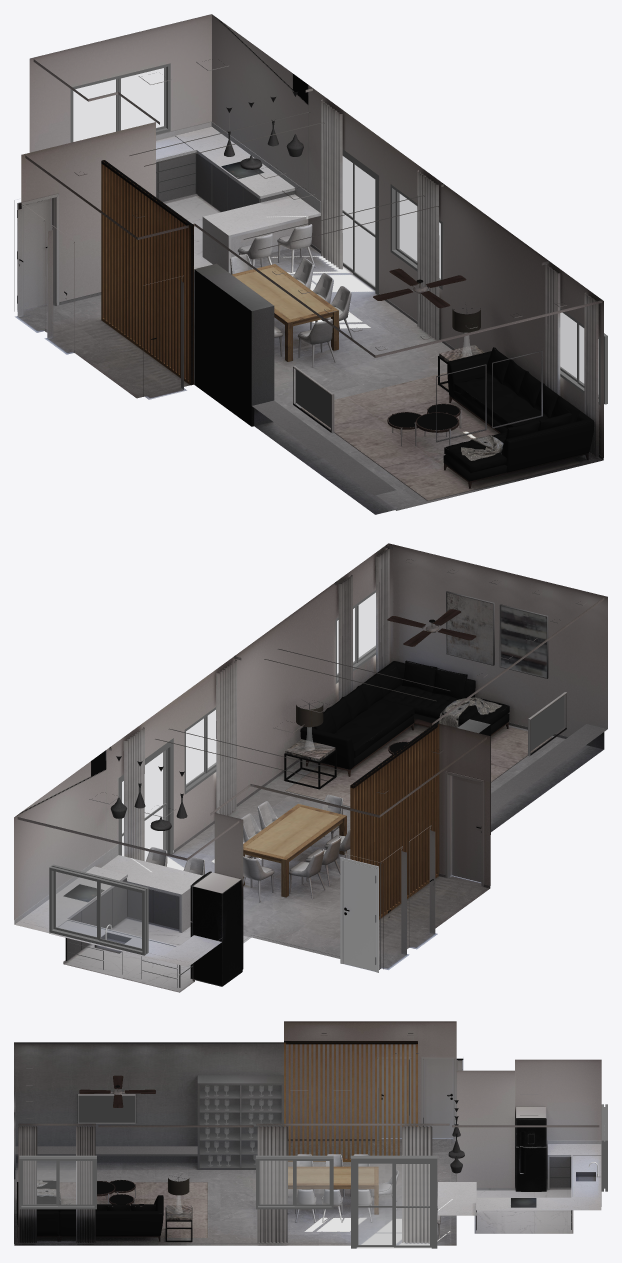
3 views of the same model, one above another, from view 1: azimuth 30°, elevation 25°; view 2: azimuth 150°, elevation 25°; view 3: azimuth 270°, elevation 25° (orthographic). The views are drawn at different scales.
Visible parts, largest first — view 1: Line001, Obj3d66-707242-43-731, Box076, Box065, Box077, SlidingWindow004, SlidingDoor001, SlidingWindow003, SlidingWindow002, Object287_Material #2146801361_0, [313]; view 2: Line001, Obj3d66-707242-43-731, Box076, Box065, SlidingWindow004, SlidingDoor001, Object285_Material #2146801358_0, Object286_Material #2146801359_0, SlidingWindow003, SlidingWindow002, Object287_Material #2146801361_0, [313]; view 3: Line001, Object284__0, Obj3d66-707242-43-731, Box076, Box065, SlidingDoor001, Box077, Box078, SlidingWindow002, SlidingWindow003, Object287_Material #2146801361_0, SlidingWindow004.
Boxes of the visible parts, x1,y1,x2,y2 form: Line001: [15, 14, 603, 514]; Obj3d66-707242-43-731: [14, 91, 594, 500]; Box076: [101, 160, 466, 385]; Box065: [321, 99, 598, 456]; Box077: [194, 263, 274, 426]; SlidingWindow004: [70, 63, 170, 142]; SlidingDoor001: [342, 149, 378, 294]; SlidingWindow003: [390, 184, 442, 289]; SlidingWindow002: [560, 308, 607, 405]; Object287_Material #2146801361_0: [296, 370, 330, 427]; [313]: [436, 350, 542, 442]; Line001: [14, 543, 607, 992]; Obj3d66-707242-43-731: [110, 660, 566, 985]; Box076: [243, 609, 476, 919]; Box065: [123, 548, 389, 861]; SlidingWindow004: [49, 864, 148, 955]; SlidingDoor001: [118, 738, 173, 861]; Object285_Material #2146801358_0: [500, 606, 546, 677]; Object286_Material #2146801359_0: [447, 592, 492, 664]; SlidingWindow003: [184, 707, 216, 794]; SlidingWindow002: [335, 590, 375, 683]; Object287_Material #2146801361_0: [529, 695, 564, 751]; [313]: [446, 591, 548, 678]; Line001: [14, 1021, 601, 1248]; Object284__0: [14, 1042, 283, 1146]; Obj3d66-707242-43-731: [17, 1057, 546, 1241]; Box076: [79, 1041, 417, 1214]; Box065: [18, 1126, 432, 1242]; SlidingDoor001: [351, 1155, 437, 1248]; Box077: [197, 1075, 283, 1169]; Box078: [200, 1085, 281, 1167]; SlidingWindow002: [19, 1155, 96, 1209]; SlidingWindow003: [256, 1155, 333, 1209]; Object287_Material #2146801361_0: [78, 1095, 134, 1122]; SlidingWindow004: [601, 1104, 607, 1191].
Size of the model in its own units: 6.05 by 3.06 by 13.75.
18 materials, 10 textured.
